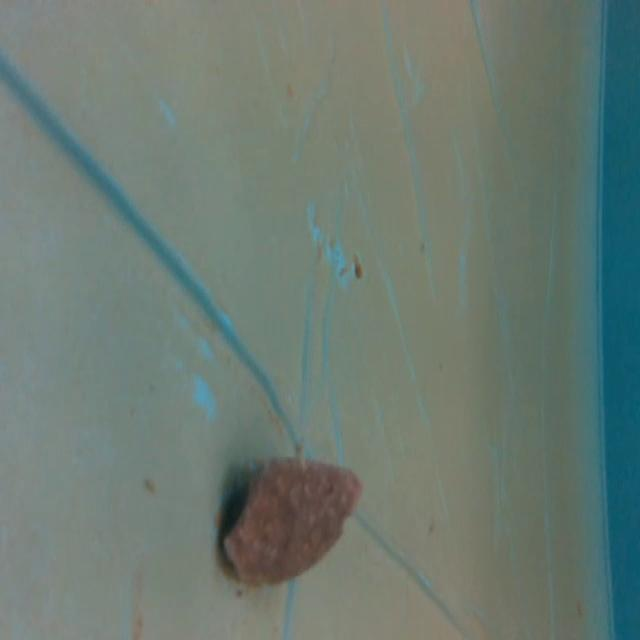rock: (215, 453, 366, 591)
